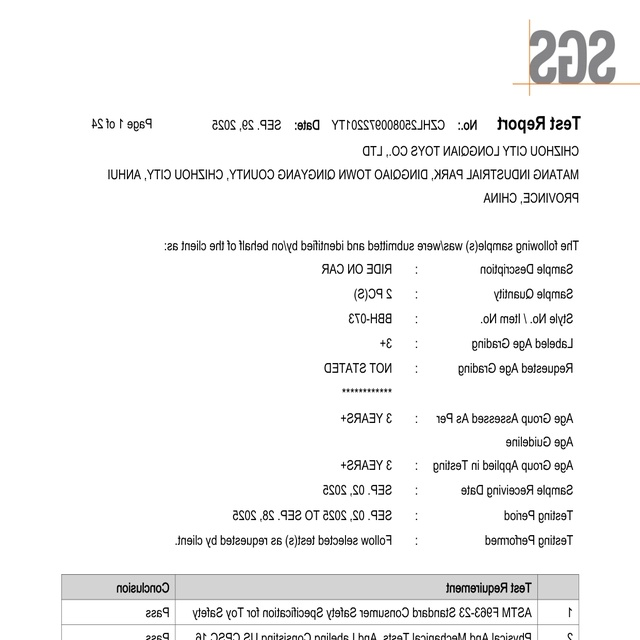sgs: (529, 30, 617, 85)
